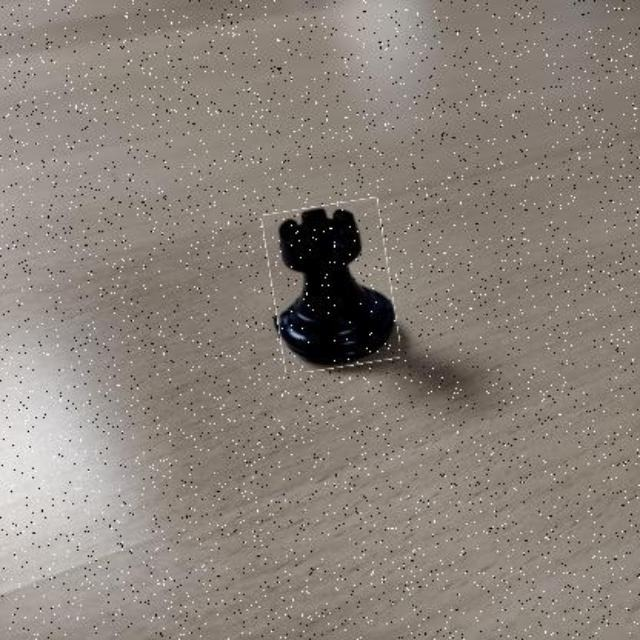black-rook: (268, 200, 396, 369)
